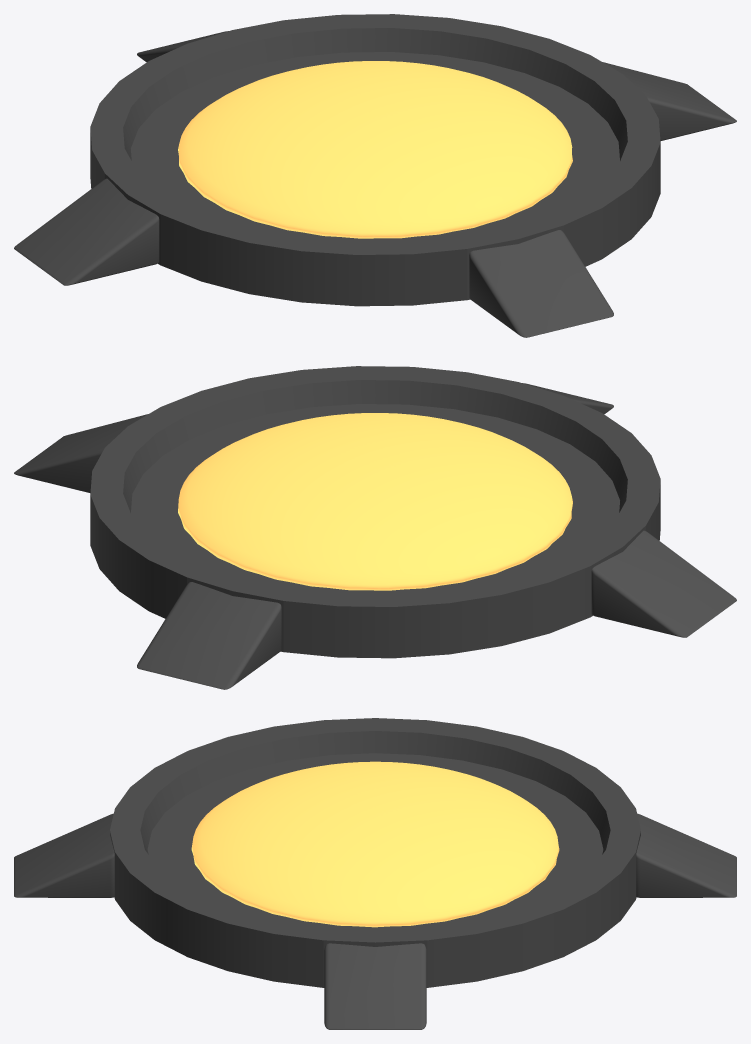
The model's file is ObjectToMaterialize.fbx.
The picture shows the model from 3 angles, top to bottom: view 1: azimuth 30°, elevation 25°; view 2: azimuth 150°, elevation 25°; view 3: azimuth 270°, elevation 25°; orthographic projection. The views are drawn at different scales.
Parts seen in each view (by area): view 1: 柱体; view 2: 柱体; view 3: 柱体.
Part boxes in pixels (x1,y1,x2,y2): 柱体: (14,14,736,337); 柱体: (14,366,736,689); 柱体: (14,718,736,1029).
Size of the model in its own units: 136 by 16.14 by 136.
